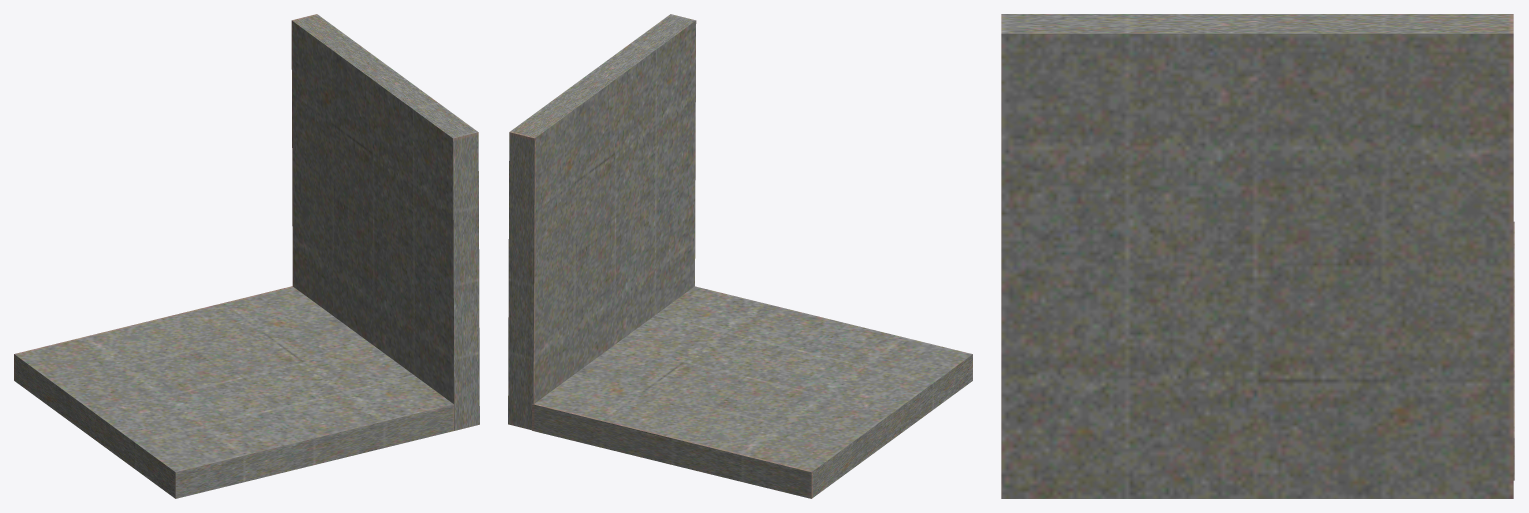
The model's file is Floor+wall.obj.
3 renders of one model, left to right at view 1: azimuth 30°, elevation 25°; view 2: azimuth 150°, elevation 25°; view 3: azimuth 270°, elevation 25°, orthographic. The views are drawn at different scales.
Parts seen in each view (by area): view 1: Floor01, Wall; view 2: Floor01, Wall; view 3: Wall.
Boxes of the visible parts, x1,y1,x2,y2 form: Floor01: (14,286,453,498); Wall: (291,14,479,430); Floor01: (532,286,972,498); Wall: (508,14,696,430); Wall: (1001,14,1513,498).
Size of the model in its own units: 4.35 by 4 by 4.01.
